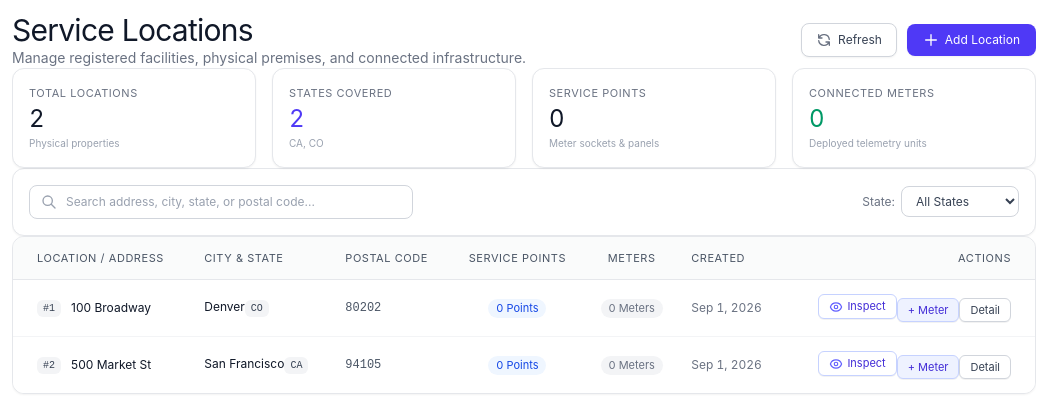
ServiceLocationsView.vue › filters locations by search input
Type "Francisco" into the field with placeholder "Search address, city, state, or postal code...".
click(221, 202); type("Francisco")  # box [29,185,413,219]
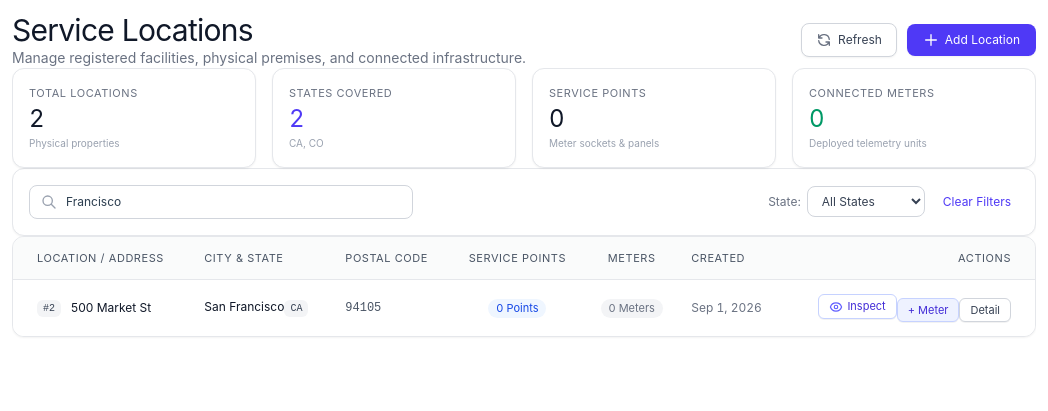
Expected: the text "500 Market St" is shown, [71,300,151,316]
Expected: the text "100 Broadway" is gone
